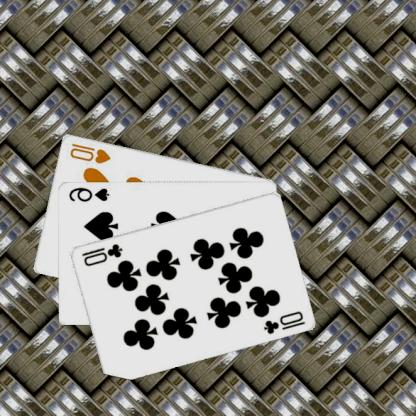10C: (80, 240, 126, 268), (262, 308, 308, 335)
10H: (68, 140, 113, 165)
6S: (68, 184, 112, 202)
